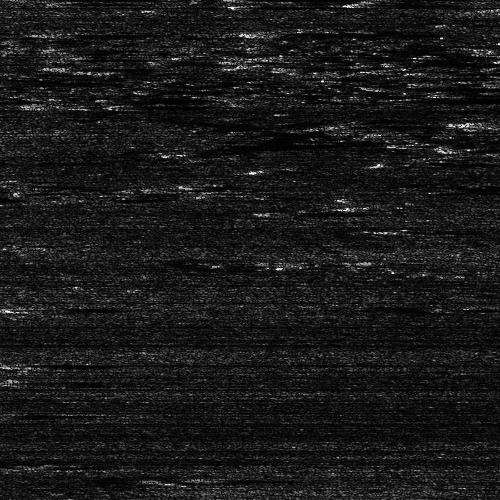rock: (21, 55, 104, 74), (402, 119, 500, 130), (222, 28, 327, 37), (0, 303, 77, 310), (318, 0, 371, 9), (0, 359, 56, 366), (36, 30, 89, 35), (242, 208, 295, 213), (0, 412, 46, 417), (15, 380, 46, 383)
shadow: (63, 55, 158, 74), (275, 28, 454, 37), (345, 0, 420, 9), (20, 359, 110, 366), (63, 30, 159, 35), (36, 303, 96, 310), (465, 119, 500, 130), (269, 208, 338, 213), (15, 412, 74, 417), (31, 380, 61, 383)
